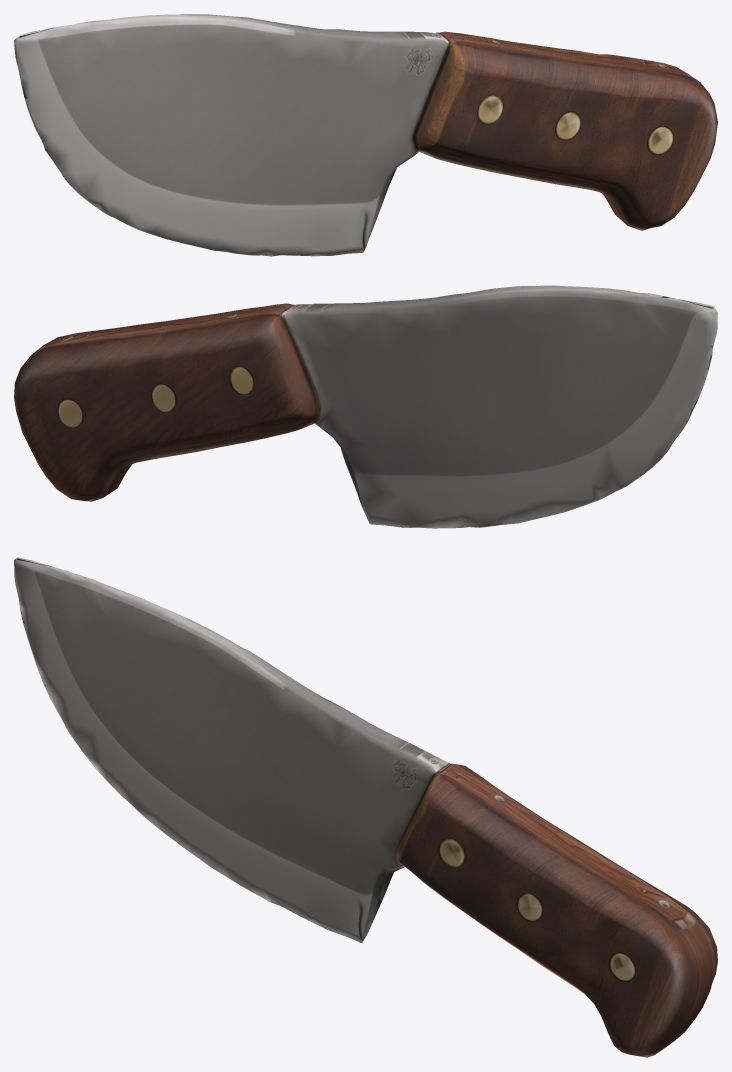
The model's file is Chef_s_Steel_0811163218_texture.fbx.
3 renders of one model, top to bottom at view 1: azimuth 30°, elevation 25°; view 2: azimuth 150°, elevation 25°; view 3: azimuth 330°, elevation 25°, orthographic.
Parts seen in each view (by area): view 1: input; view 2: input; view 3: input.
Boxes of the visible parts, bbox=[...] form: input: bbox=[14, 14, 717, 256]; input: bbox=[14, 285, 717, 528]; input: bbox=[14, 557, 717, 1057].
Bounding box in the file's own units: 198 × 93.64 × 18.98.
1 material, 1 textured.
